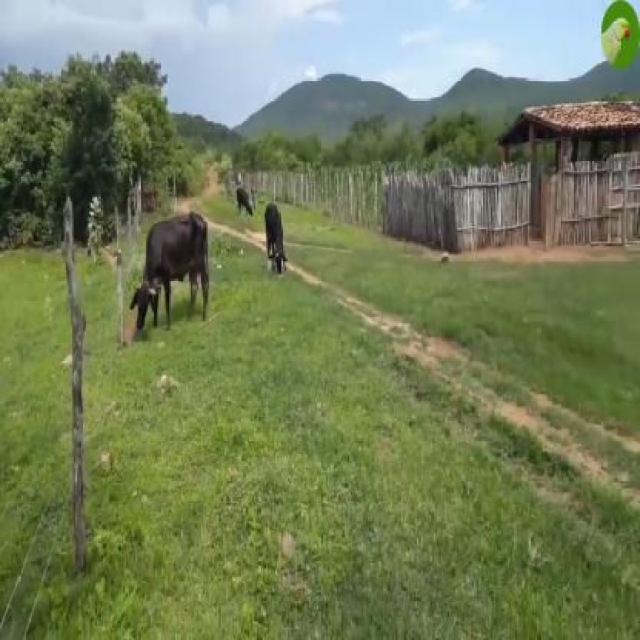Cow: (133, 211, 210, 335)
